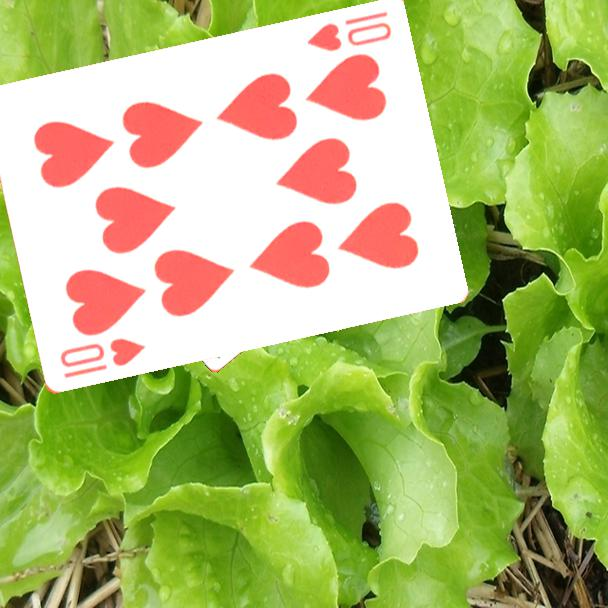h10: (56, 335, 147, 382), (303, 8, 394, 55)
